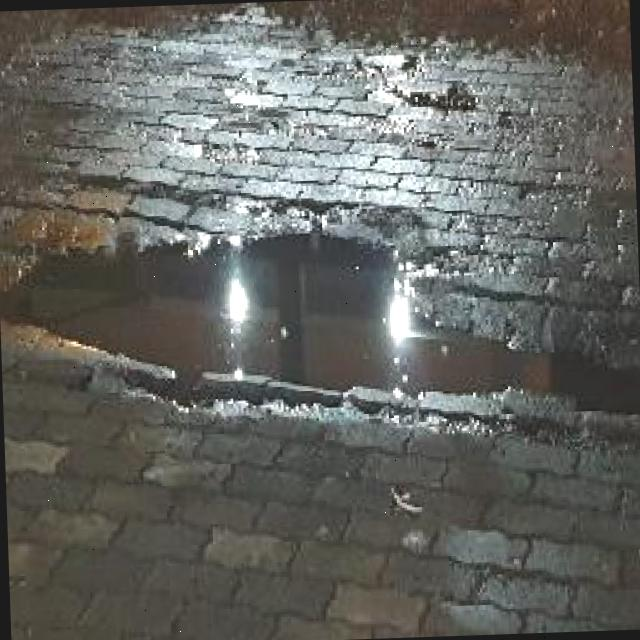stagnation: (3, 180, 628, 429)
